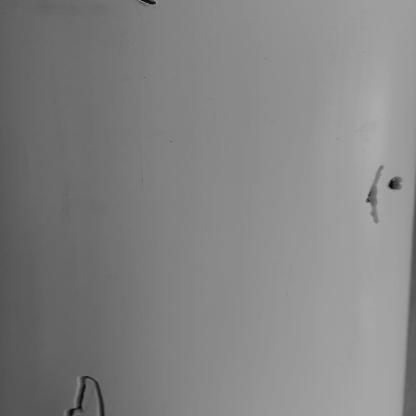fengxi: (53, 374, 118, 416)
kongdong: (364, 155, 383, 229), (382, 174, 413, 195)
